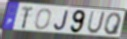9: (69, 9, 87, 34)
J: (53, 10, 70, 32)
O: (33, 8, 52, 31)
Q: (103, 12, 123, 36)
T: (20, 6, 35, 31)
U: (86, 11, 107, 35)
